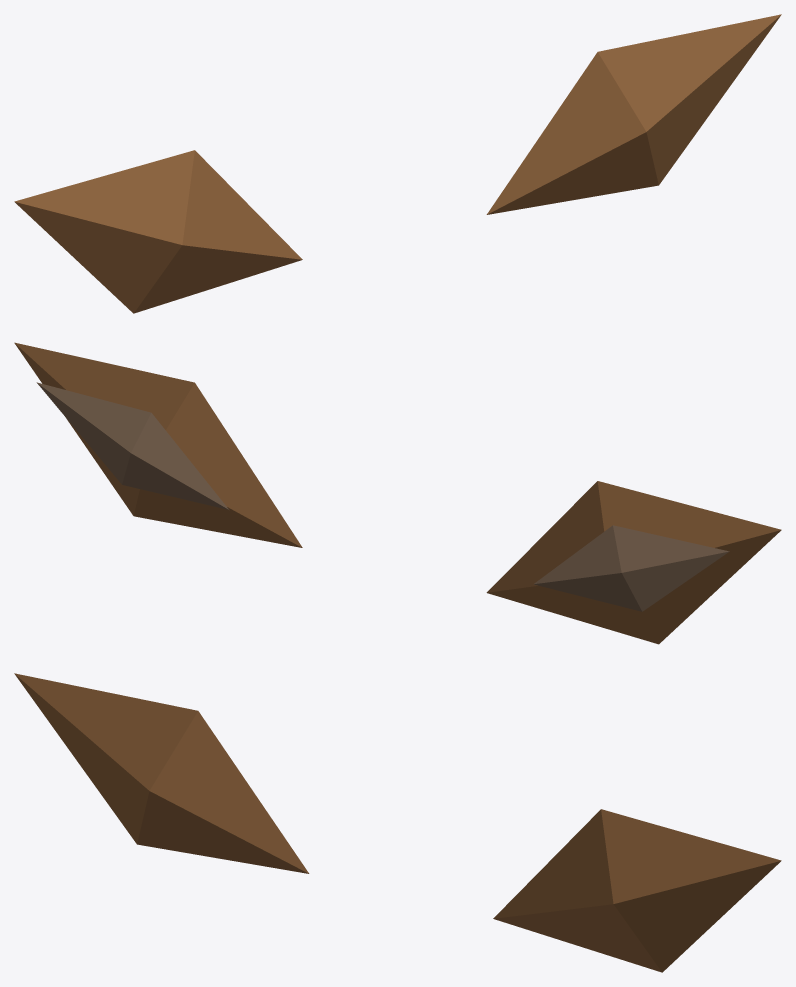
The model's file is ears.glb.
3 views of the same model, one above another, from view 1: azimuth 30°, elevation 25°; view 2: azimuth 150°, elevation 25°; view 3: azimuth 330°, elevation 25° (orthographic).
Visible parts, largest first — view 1: ears; view 2: ears; view 3: ears.
Boxes of the visible parts, bbox=[...] form: ears: bbox=[14, 14, 781, 313]; ears: bbox=[14, 342, 781, 644]; ears: bbox=[14, 673, 781, 972].
Size of the model in its own units: 1.34 by 0.2479 by 0.1154.
